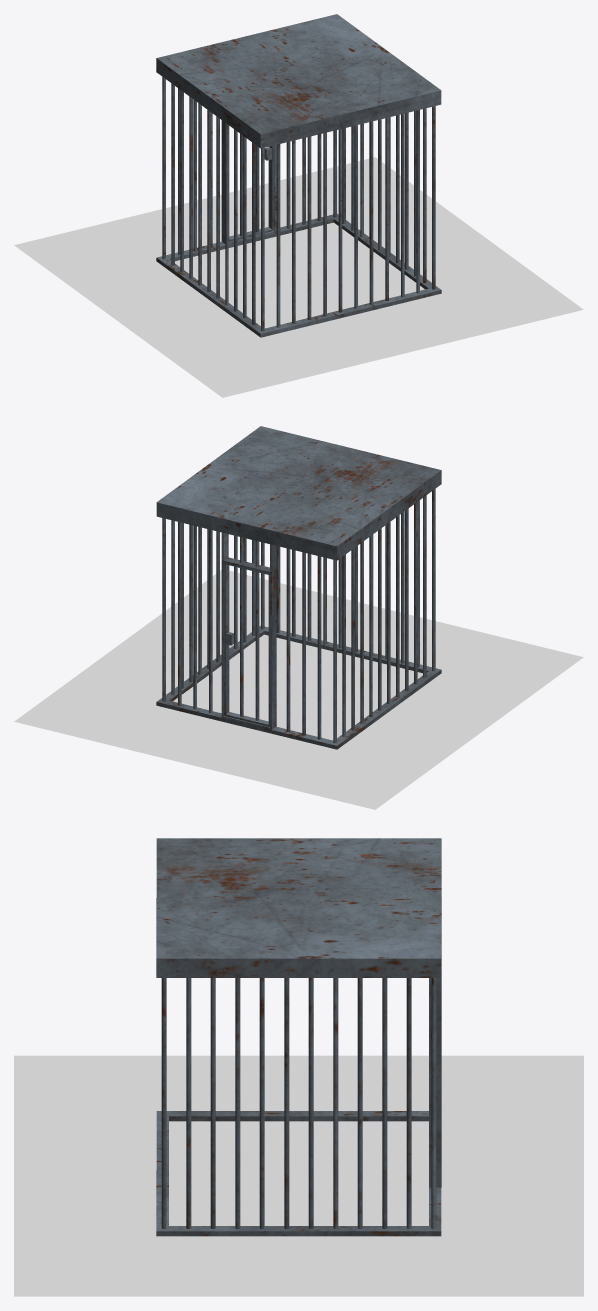
Rendered from SQ-CAGE_FBX_SUB-MOD.fbx.
3 views of the same model, one above another, from view 1: azimuth 30°, elevation 25°; view 2: azimuth 150°, elevation 25°; view 3: azimuth 270°, elevation 25° (orthographic). The views are drawn at different scales.
Parts seen in each view (by area): view 1: Plane, CAGE_BASE, CAGE_BASE.001; view 2: Plane, CAGE_BASE, CAGE_BASE.001; view 3: Plane, CAGE_BASE, CAGE_BASE.001.
Part boxes in pixels (x1,y1,x2,y2): Plane: [14, 157, 583, 397]; CAGE_BASE: [156, 14, 441, 337]; CAGE_BASE.001: [162, 77, 435, 331]; Plane: [14, 570, 583, 809]; CAGE_BASE: [156, 426, 441, 749]; CAGE_BASE.001: [162, 489, 435, 743]; Plane: [14, 1055, 583, 1296]; CAGE_BASE: [156, 838, 441, 1236]; CAGE_BASE.001: [161, 978, 436, 1228].
Bounding box in the file's own units: 400 × 215 × 400.
